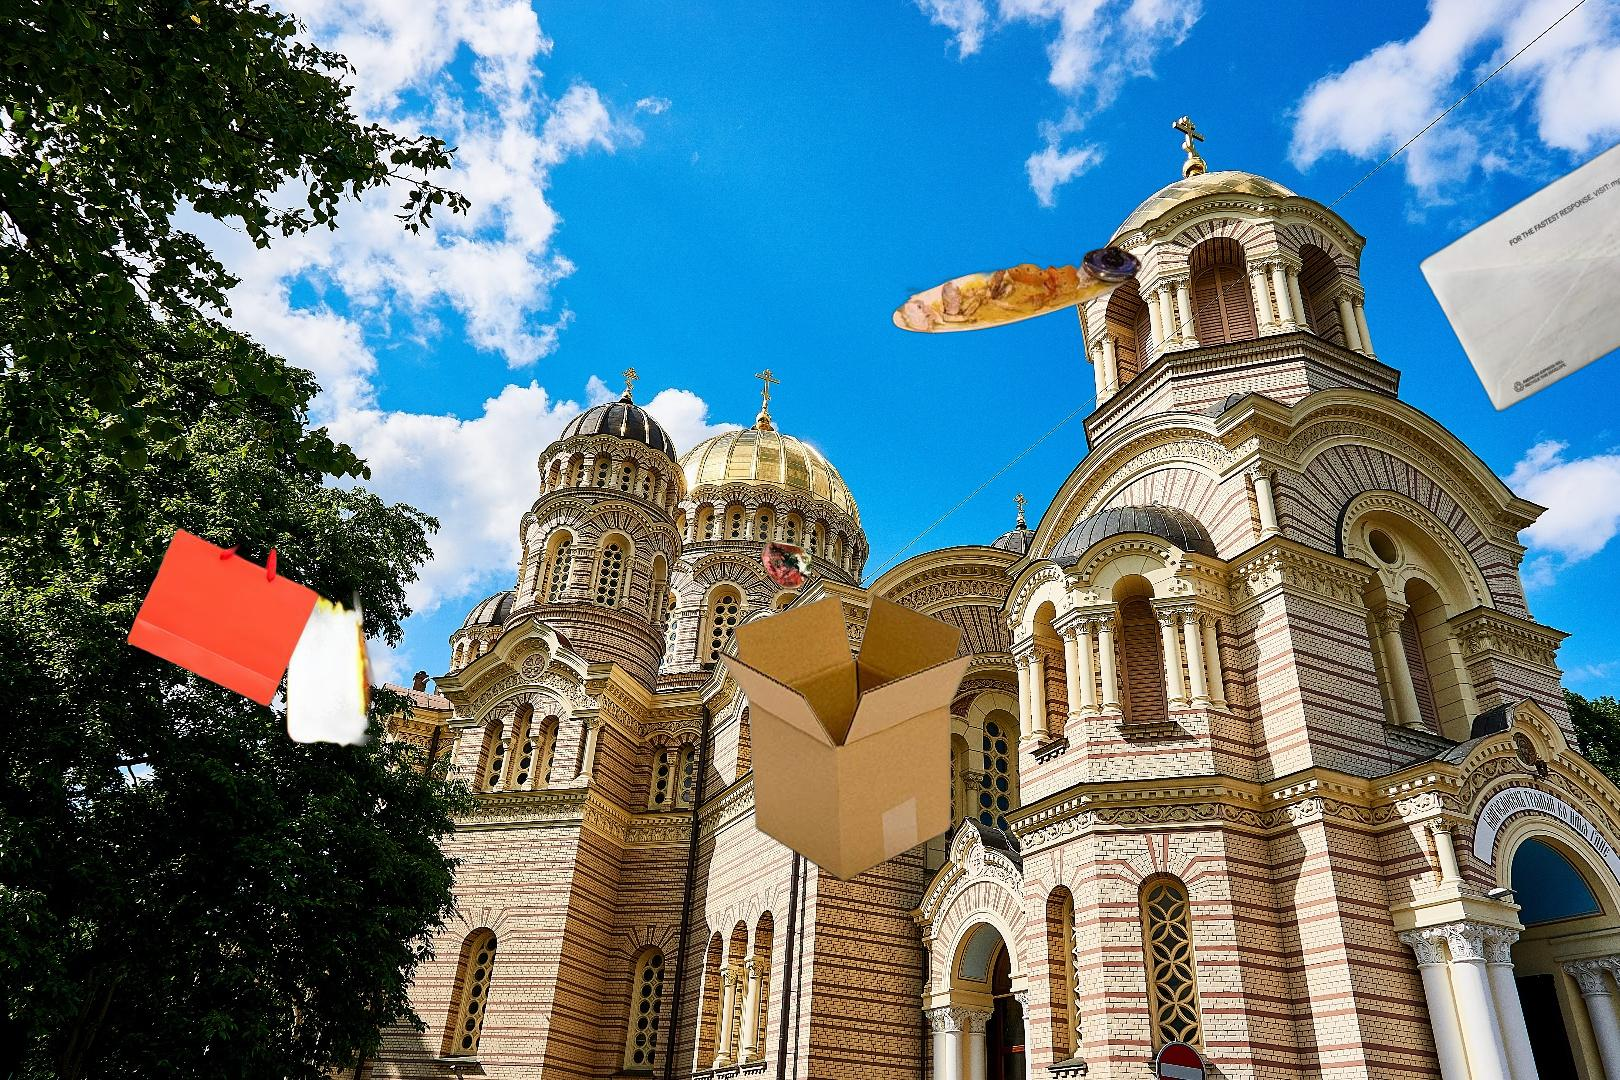biological: (601, 422, 818, 646), (890, 243, 1145, 336)
glass: (1543, 1047, 1620, 1080)
paper: (1415, 78, 1620, 413)
paper-bag: (123, 526, 388, 780)
trashbox-cardboard: (715, 592, 975, 884)
